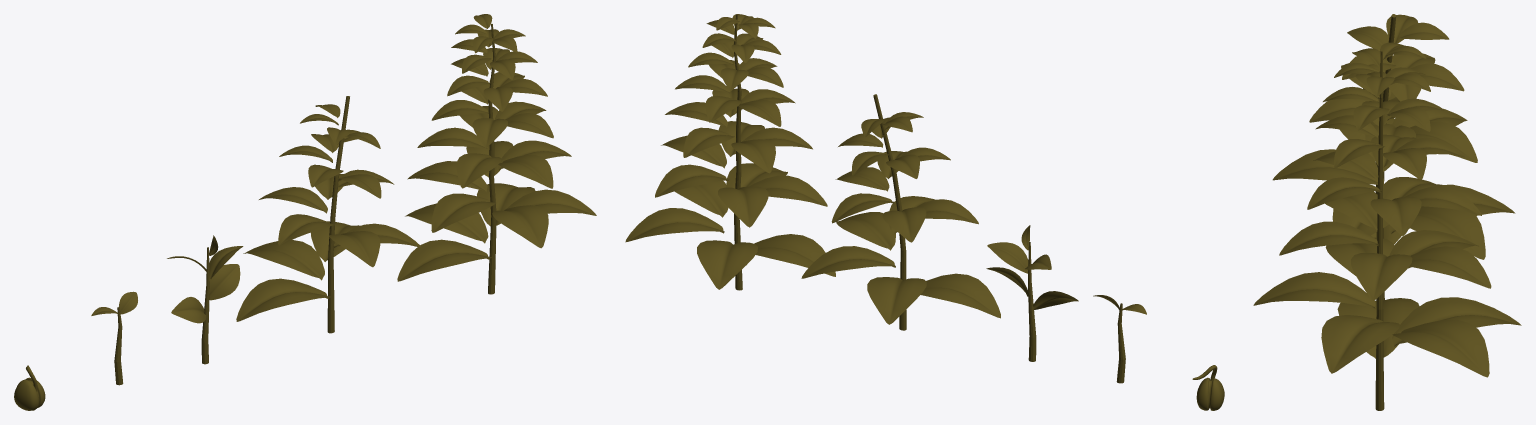
Rendered from Plantas.fbx.
The picture shows the model from 3 angles, left to right: view 1: azimuth 30°, elevation 25°; view 2: azimuth 150°, elevation 25°; view 3: azimuth 270°, elevation 25°; orthographic projection. The views are drawn at different scales.
Visible parts, largest first — view 1: Planta4, Planta3, Planta2, Planta1, Semilla; view 2: Planta4, Planta3, Planta2, Semilla, Planta1; view 3: Planta4, Planta3.
Boxes of the visible parts, x1=… form: Planta4: x1=397, y1=14, x2=596, y2=294; Planta3: x1=236, y1=96, x2=421, y2=333; Planta2: x1=167, y1=235, x2=243, y2=364; Planta1: x1=91, y1=291, x2=137, y2=385; Semilla: x1=14, y1=365, x2=45, y2=410; Planta4: x1=625, y1=14, x2=835, y2=290; Planta3: x1=801, y1=94, x2=1000, y2=330; Planta2: x1=986, y1=225, x2=1078, y2=361; Semilla: x1=1192, y1=365, x2=1224, y2=410; Planta1: x1=1093, y1=295, x2=1146, y2=383; Planta4: x1=1253, y1=42, x2=1521, y2=410; Planta3: x1=1272, y1=14, x2=1515, y2=300.
Bounding box in the file's own units: 1.28 × 0.5955 × 0.3973.
